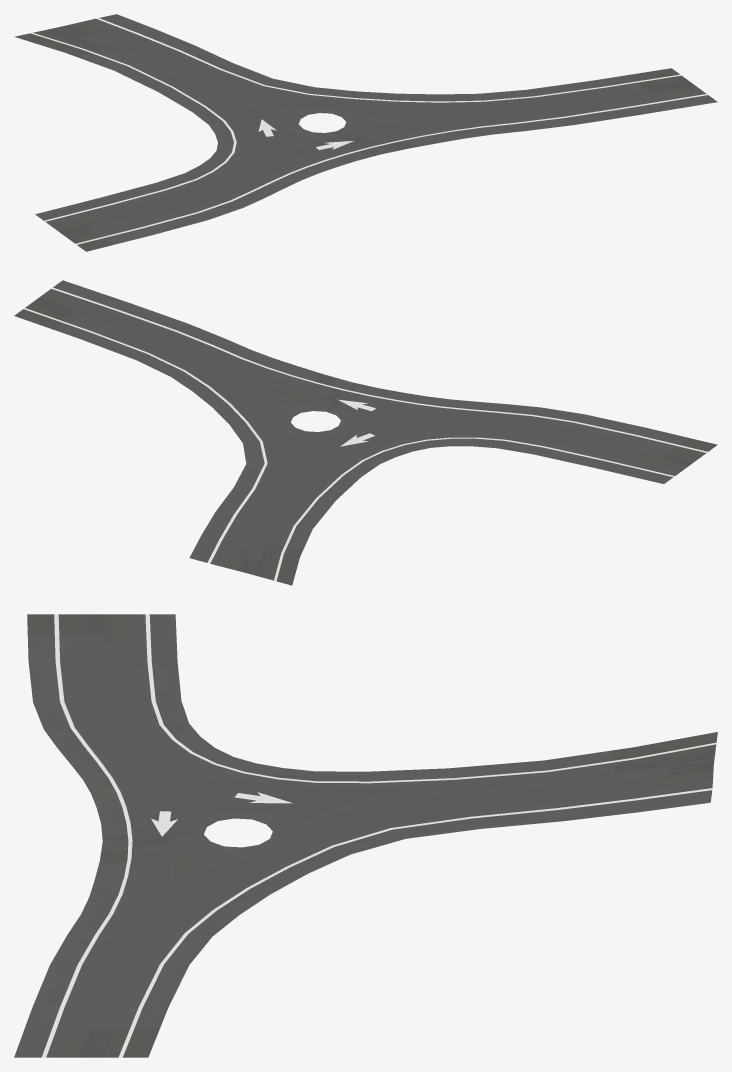
File: CampgroundRoad.fbx
3 renders of one model, top to bottom at view 1: azimuth 30°, elevation 25°; view 2: azimuth 150°, elevation 25°; view 3: azimuth 270°, elevation 25°, orthographic. The views are drawn at different scales.
Visible parts, largest first — view 1: SM_Road_Campground_Visitors.mo; view 2: SM_Road_Campground_Visitors.mo; view 3: SM_Road_Campground_Visitors.mo.
Part boxes in pixels (x1,y1,x2,y2): SM_Road_Campground_Visitors.mo: [14, 14, 717, 251]; SM_Road_Campground_Visitors.mo: [14, 280, 717, 585]; SM_Road_Campground_Visitors.mo: [14, 614, 717, 1057].
Bounding box in the file's own units: 4665 × 1.25 × 3130.
